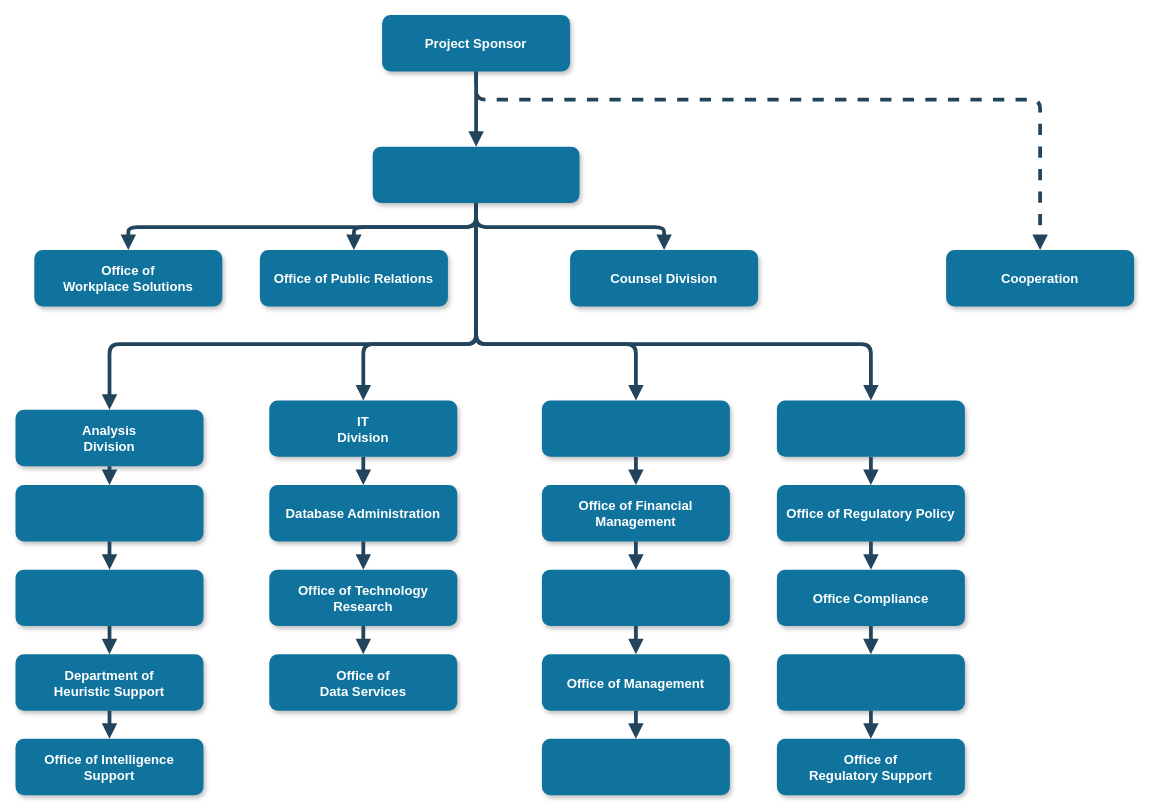
This 1150x810 diagram has some shape labels left out. Each missing label, with the centre of its shape:
"Deputy Director" belongs at pixel 476 175.
"Management Programs Division" belongs at pixel 636 429.
"Office of Backtrack Analysis" belongs at pixel 110 598.
"Office of Enforcement" belongs at pixel 871 683.
"Office of Global Support" belongs at pixel 110 514.
"Office of Human Resources" belongs at pixel 636 598.
"Office of Training Services" belongs at pixel 636 768.
"Regulatory and Enforcement Division" belongs at pixel 871 429.
